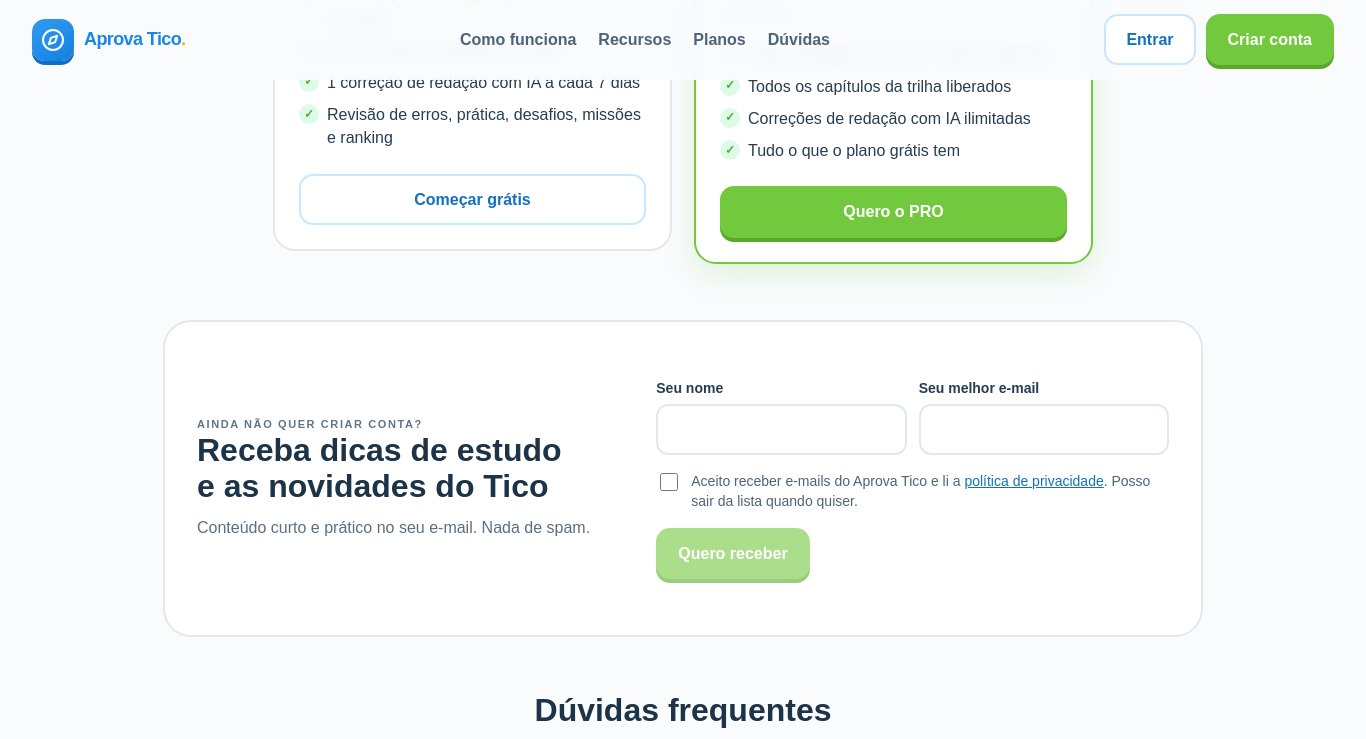
it: captura de e-mail › sem marcar a autorização, não envia
(page scrolled)
In the field labelled "Seu nome": (782, 430) [656,404,907,455], type "Maria"
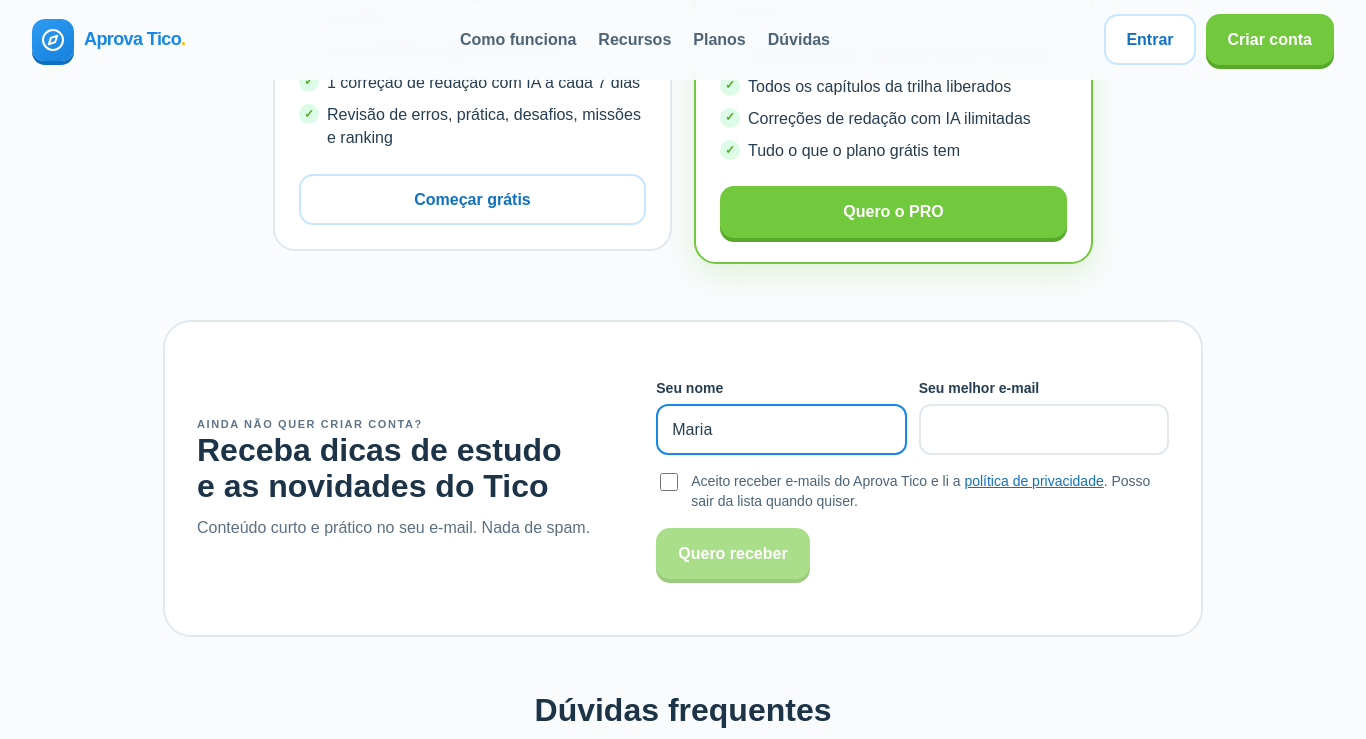
In the field labelled "Seu melhor e-mail": (1044, 430) [919,404,1169,455], type "maria@teste.dev"
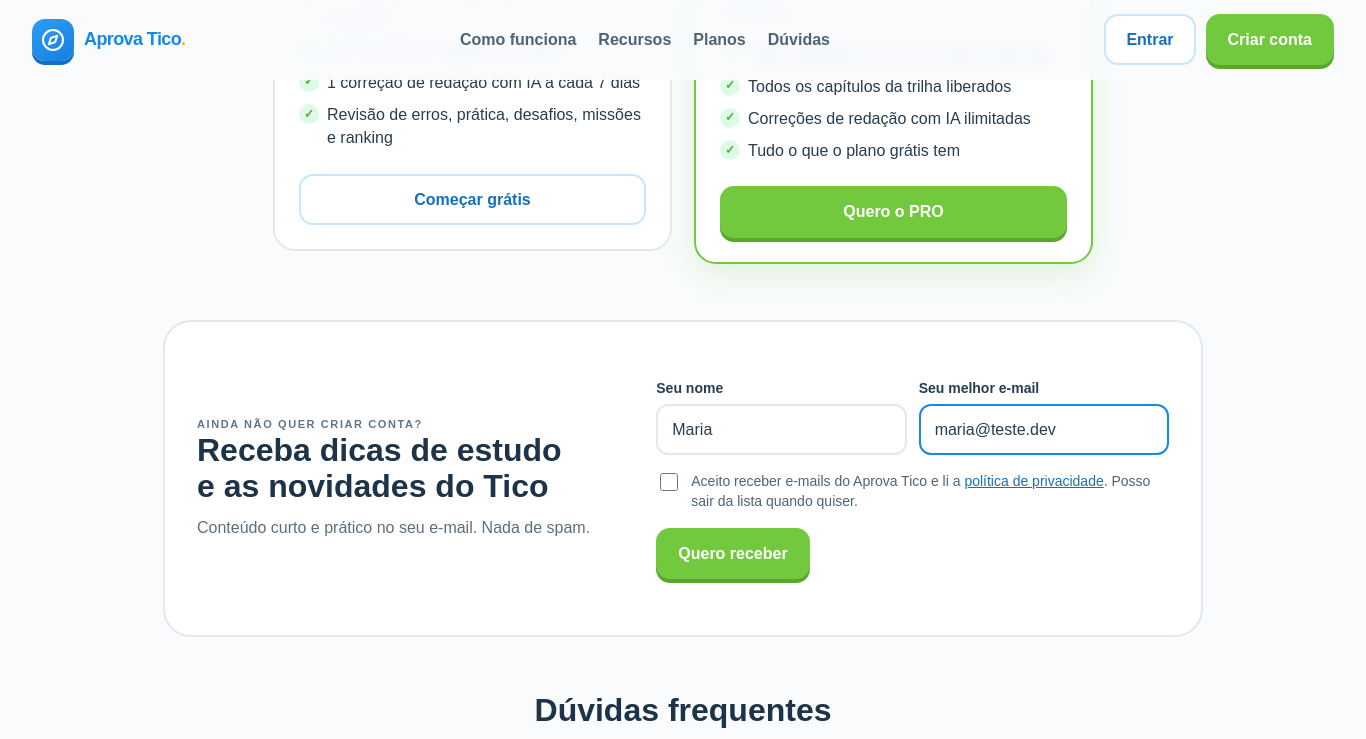
Click the button "Quero receber": (733, 553) [656,528,810,579]
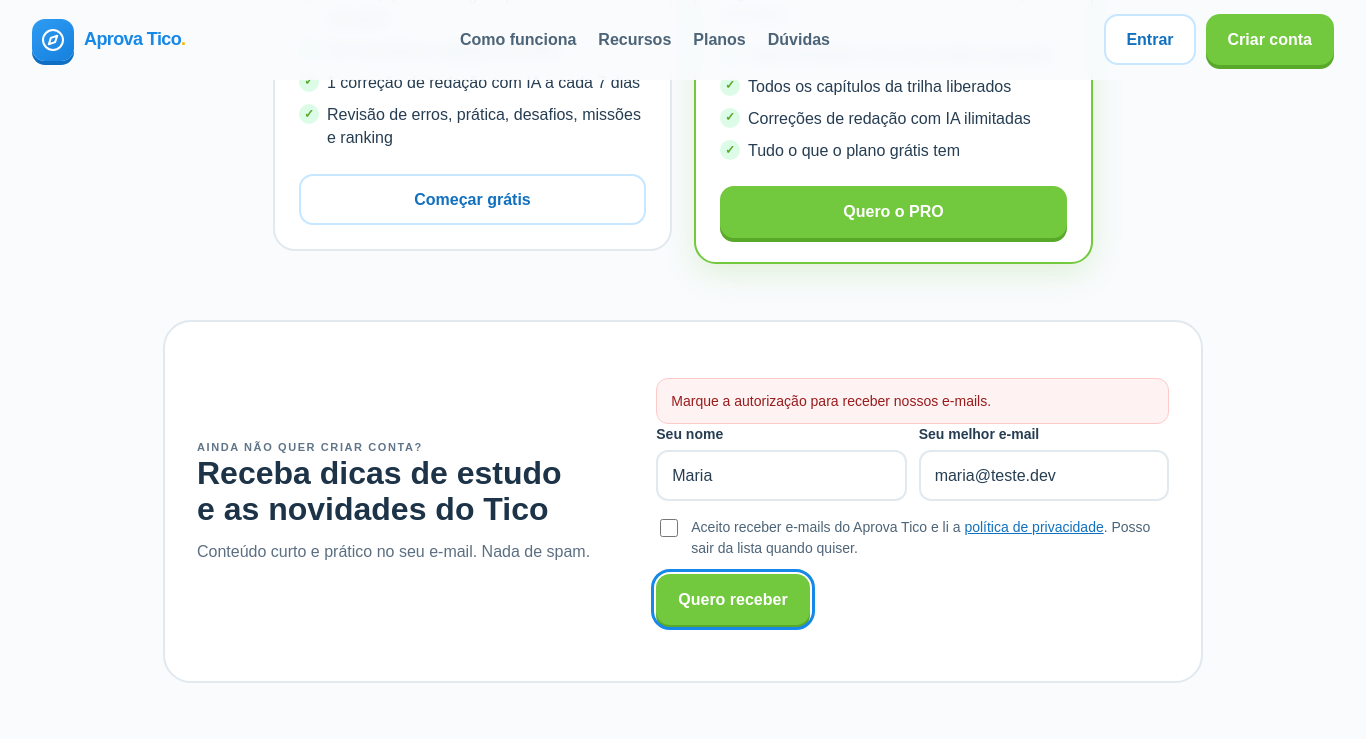
Expected: the message shows "Marque a autorização", [671,393,991,409]
